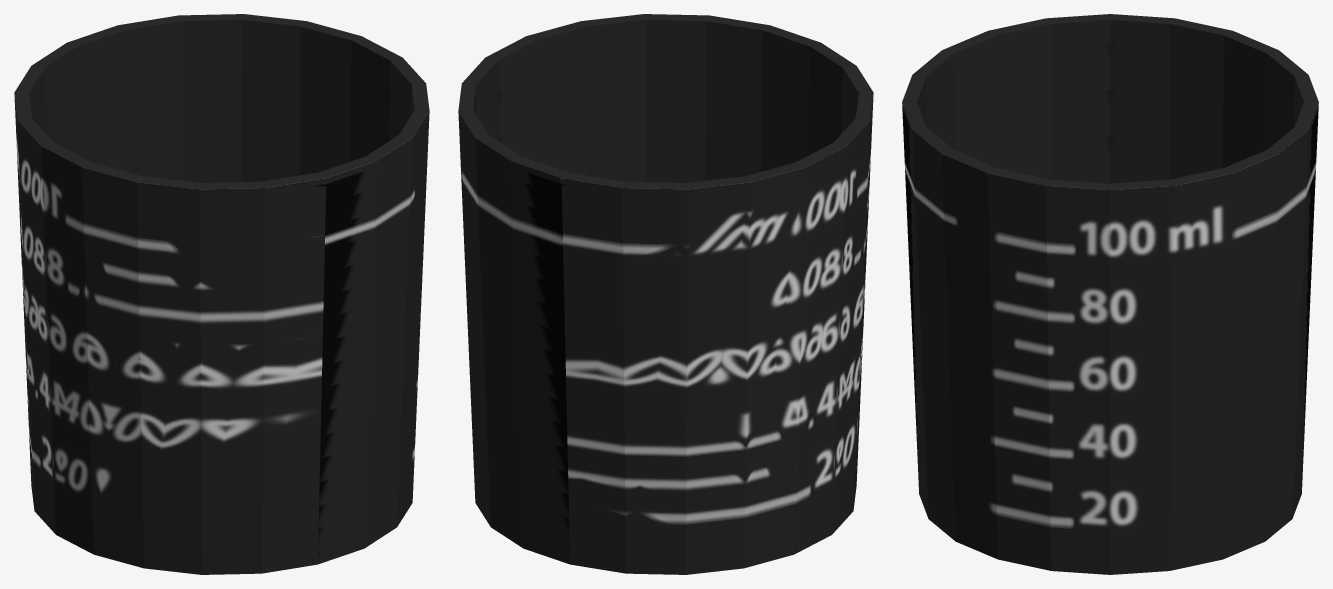
File: membrane_filtration_pump_tank_collider.fbx
3 renders of one model, left to right at view 1: azimuth 30°, elevation 25°; view 2: azimuth 150°, elevation 25°; view 3: azimuth 270°, elevation 25°, orthographic.
Parts seen in each view (by area): view 1: membrane_filtration_pump_tank; view 2: membrane_filtration_pump_tank; view 3: membrane_filtration_pump_tank.
Part boxes in pixels (x1,y1,x2,y2): membrane_filtration_pump_tank: (14, 14, 429, 574); membrane_filtration_pump_tank: (458, 14, 873, 574); membrane_filtration_pump_tank: (902, 14, 1318, 574).
Bounding box in the file's own units: 5.46 × 5.68 × 5.46.
